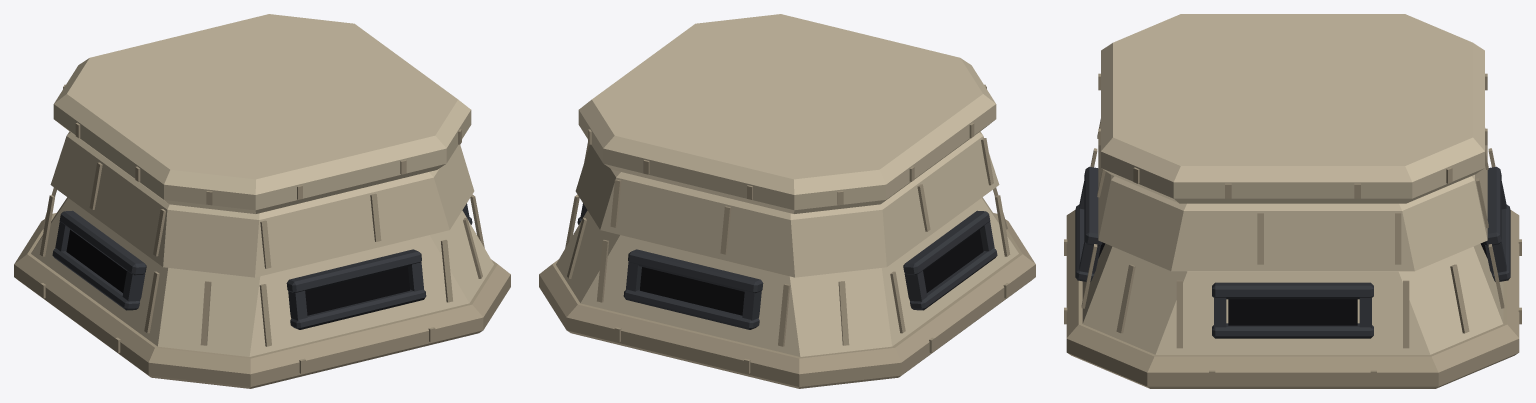
The model's file is FlameBase.obj.
3 views of the same model, side by side, from view 1: azimuth 30°, elevation 25°; view 2: azimuth 150°, elevation 25°; view 3: azimuth 270°, elevation 25° (orthographic). The views are drawn at different scales.
Parts seen in each view (by area): view 1: FlameBase; view 2: FlameBase; view 3: FlameBase.
Boxes of the visible parts, <box> form: FlameBase: <box>14,14,510,388</box>; FlameBase: <box>539,14,1035,388</box>; FlameBase: <box>1064,14,1521,388</box>.
Bounding box in the file's own units: 1.13 × 0.56 × 1.13.
